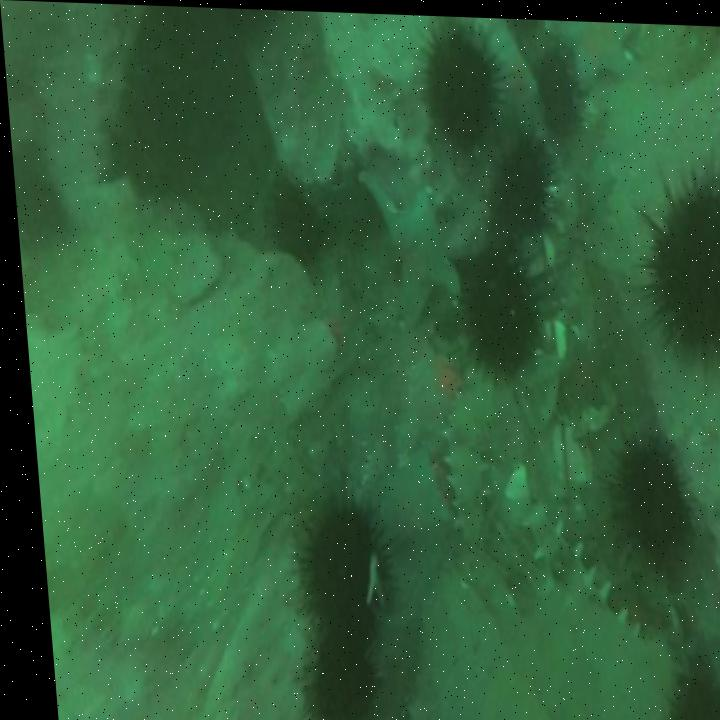echinus: (645, 182, 720, 341), (291, 502, 377, 630), (606, 440, 686, 560), (456, 254, 532, 370), (424, 21, 498, 139), (296, 628, 364, 720), (493, 138, 552, 232), (267, 183, 319, 267), (532, 44, 574, 125)
holothurian: (511, 499, 625, 625), (437, 382, 491, 541)
starfish: (356, 170, 457, 320), (548, 16, 633, 82)
